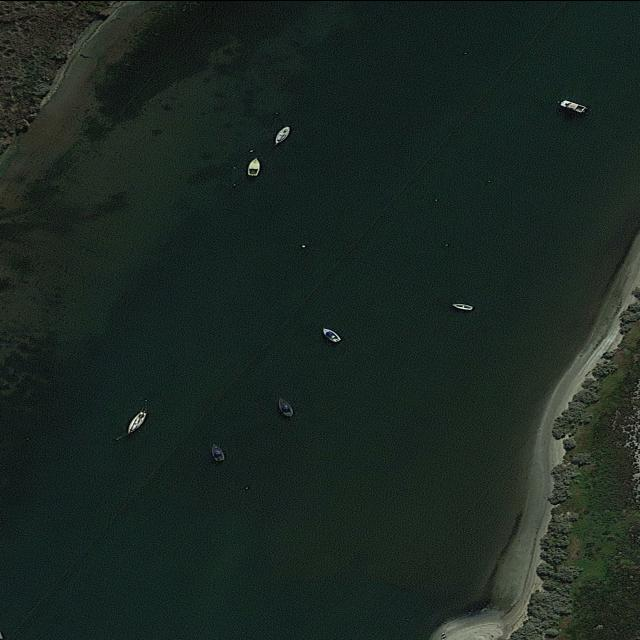ship: (126, 410, 148, 433), (558, 98, 588, 112), (276, 396, 294, 416), (245, 156, 263, 176), (274, 125, 292, 145), (322, 326, 343, 342), (210, 442, 226, 460), (451, 302, 474, 310)
